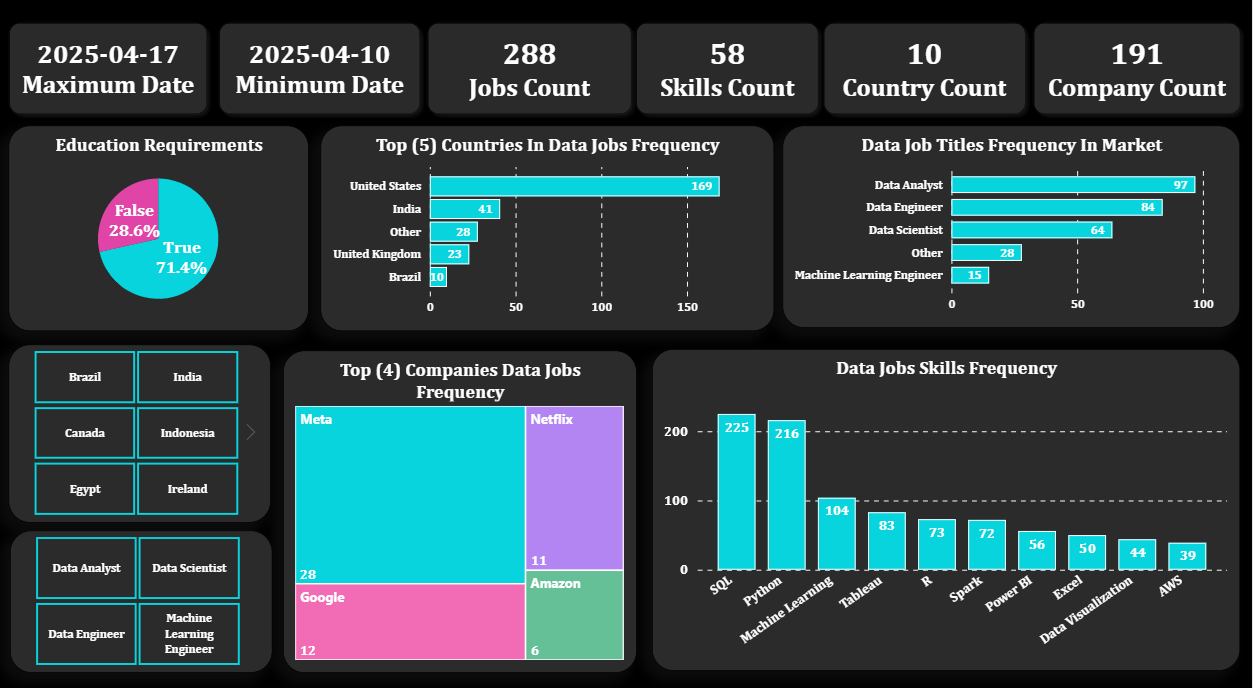

This screenshot's page, from the dashboard's own definition file:
{"tool":"powerbi","page":{"name":"Dashboard","canvas":[1280,720],"ordinal":0},"visuals":[{"type":"cardVisual","title":"Companies Count","fields":{"Data":["Dax_Measures.company_count"]},"box":[1046.3,0,234.4,156.3],"z":0},{"type":"cardVisual","fields":{"Data":["Dax_Measures.country_count"]},"box":[831.8,0,229.8,156.3],"z":1000},{"type":"cardVisual","fields":{"Data":["Dax_Measures.job_title_short_count"]},"box":[427.4,0,231.3,156.3],"z":2000},{"type":"cardVisual","fields":{"Data":["Dax_Measures.skills_count"]},"box":[640.3,0,209.9,156.3],"z":3000},{"type":"clusteredBarChart","title":"Data Job Titles Frequency In Market","fields":{"Category":["Final_Cleaned_Dataset.job_title_short"],"Y":["CountNonNull(Final_Cleaned_Dataset.job_title_short)"]},"box":[801.2,136.3,467.2,206.8],"z":4000},{"type":"clusteredColumnChart","title":"Data Jobs Skills Frequency","fields":{"Category":["Explode_Data_Job_Market_Skills.skills"],"Y":["CountNonNull(Explode_Data_Job_Market_Skills.skills)"]},"box":[667.4,365.3,600.5,328.9],"z":5000},{"type":"clusteredBarChart","title":"Top (5) Countries In Data Jobs Frequency","fields":{"Category":["Final_Cleaned_Dataset.country"],"Y":["CountNonNull(Final_Cleaned_Dataset.country)"]},"box":[329.4,136.3,463,209.9],"z":6000},{"type":"cardVisual","fields":{"Data":["Dax_Measures.Maximum Date"]},"box":[0,0,225.2,156.3],"z":7000},{"type":"cardVisual","fields":{"Data":["Dax_Measures.Minimum Date"]},"box":[214.5,0,228.3,156.3],"z":8000},{"type":"treemap","title":"Top (4) Companies Data Jobs Frequency ","fields":{"Group":["Final_Cleaned_Dataset.company"],"Values":["CountNonNull(Final_Cleaned_Dataset.company)"]},"box":[291.1,366.1,361,329.4],"z":9000},{"type":"pieChart","title":"Education Requirements","fields":{"Category":["Final_Cleaned_Dataset.educational_background"],"Y":["CountNonNull(Final_Cleaned_Dataset.educational_background)"]},"box":[10.7,136.3,306.4,209.9],"z":10000},{"type":"slicer","fields":{"Values":["Final_Cleaned_Dataset.job_title_short"]},"box":[12.3,550,268.1,145.5],"z":11000},{"type":"slicer","fields":{"Values":["Final_Cleaned_Dataset.country"]},"box":[10.7,360,268.1,182.3],"z":12000}]}

Visuals, with their boxes in screenshot pixels (x1, y1, x2, y2), scaled from the page's 1280x720 canvas onto the 1253x688 screenshot:
"Companies Count" cardVisual: rect(1024, 0, 1252, 149)
cardVisual - Dax_Measures.country_count: rect(814, 0, 1039, 149)
cardVisual - Dax_Measures.job_title_short_count: rect(418, 0, 645, 149)
cardVisual - Dax_Measures.skills_count: rect(627, 0, 832, 149)
"Data Job Titles Frequency In Market" clusteredBarChart: rect(784, 130, 1242, 328)
"Data Jobs Skills Frequency" clusteredColumnChart: rect(653, 349, 1241, 663)
"Top (5) Countries In Data Jobs Frequency" clusteredBarChart: rect(322, 130, 776, 331)
cardVisual - Dax_Measures.Maximum Date: rect(0, 0, 220, 149)
cardVisual - Dax_Measures.Minimum Date: rect(210, 0, 433, 149)
"Top (4) Companies Data Jobs Frequency " treemap: rect(285, 350, 638, 665)
"Education Requirements" pieChart: rect(10, 130, 310, 331)
slicer - Final_Cleaned_Dataset.job_title_short: rect(12, 526, 274, 665)
slicer - Final_Cleaned_Dataset.country: rect(10, 344, 273, 518)
